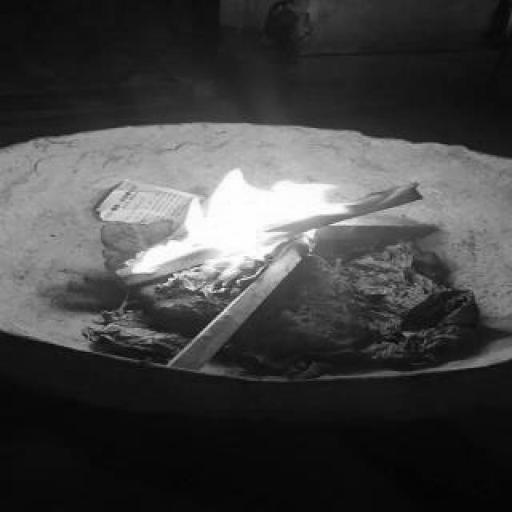smoke: (117, 163, 357, 282)
